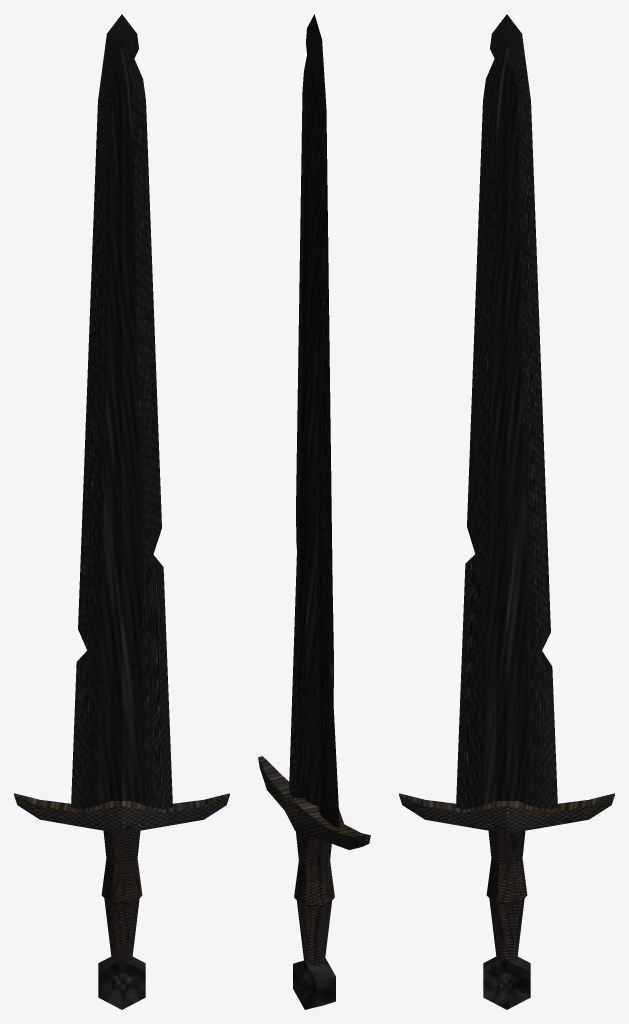
Rendered from Broadsword.fbx.
The picture shows the model from 3 angles, left to right: view 1: azimuth 90°, elevation 25°; view 2: azimuth 210°, elevation 25°; view 3: azimuth 270°, elevation 25°; orthographic projection.
Parts seen in each view (by area): view 1: SM_Wep_Sword_03; view 2: SM_Wep_Sword_03; view 3: SM_Wep_Sword_03.
Part boxes in pixels (<box>): SM_Wep_Sword_03: <box>14,14,229,1009</box>; SM_Wep_Sword_03: <box>258,14,370,1009</box>; SM_Wep_Sword_03: <box>399,14,614,1009</box>.
Bounding box in the file's own units: 6.15 × 152 × 29.97.
